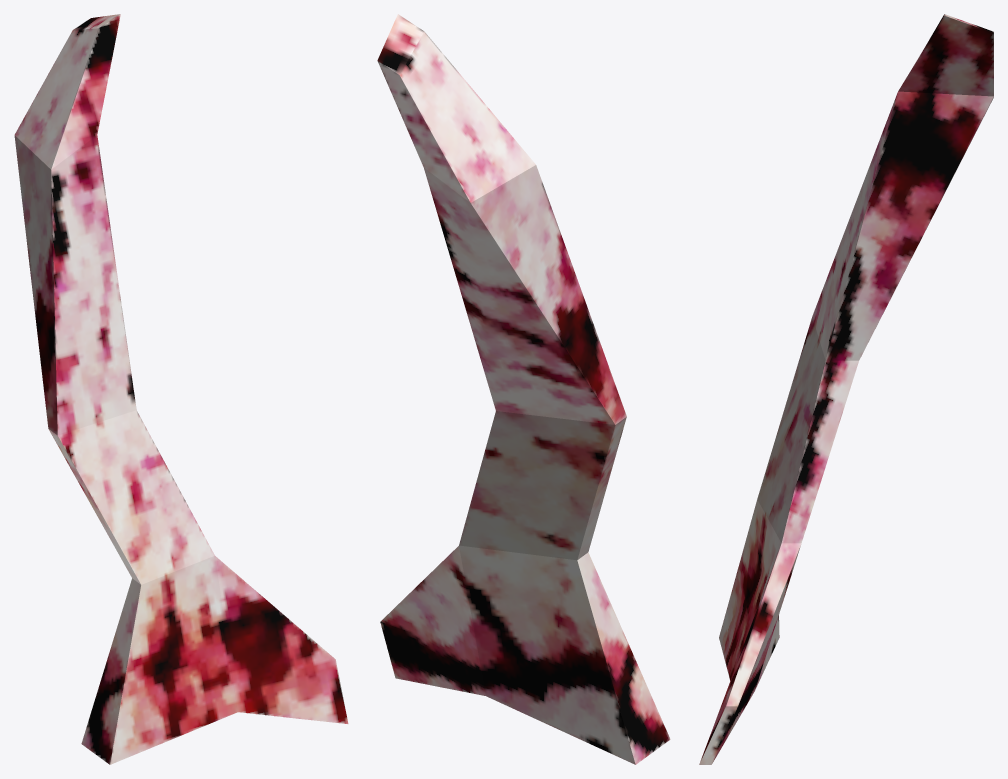
The model's file is TornJaw2.fbx.
3 renders of one model, left to right at view 1: azimuth 30°, elevation 25°; view 2: azimuth 150°, elevation 25°; view 3: azimuth 270°, elevation 25°, orthographic. The views are drawn at different scales.
Parts seen in each view (by area): view 1: TornJaw2; view 2: TornJaw2; view 3: TornJaw2.
Part boxes in pixels (x1,y1,x2,y2): TornJaw2: (14, 14, 348, 764); TornJaw2: (377, 14, 670, 764); TornJaw2: (699, 14, 993, 764).
Bounding box in the file's own units: 219 × 575 × 222.
